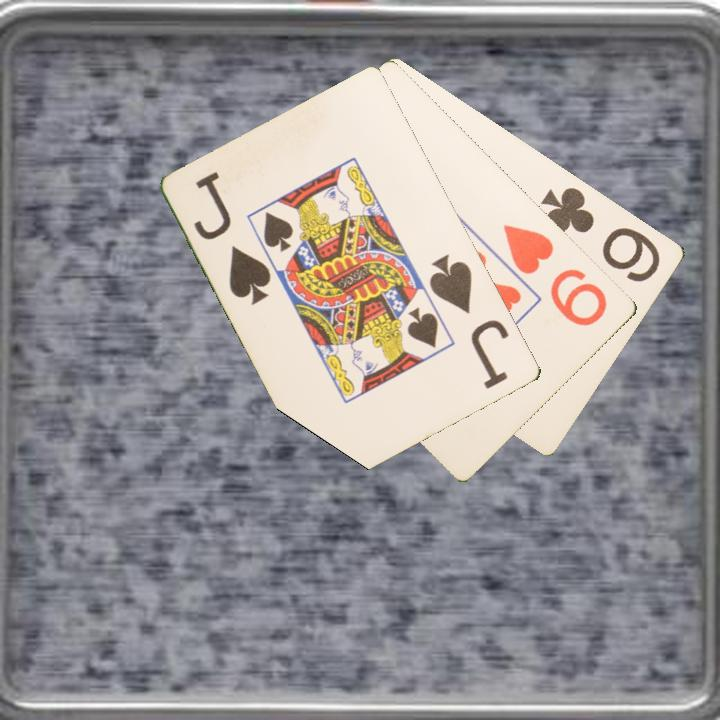6c: (538, 183, 664, 286)
9h: (500, 221, 611, 329)
Js: (426, 251, 513, 392), (190, 167, 275, 308)
